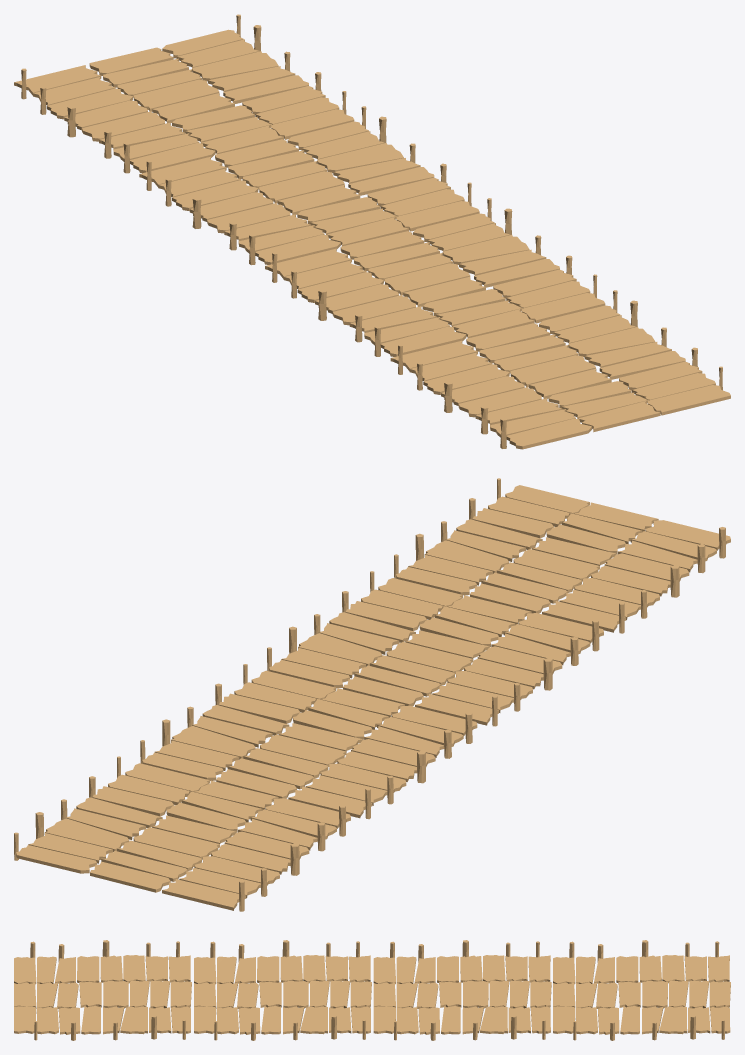
The picture shows the model from 3 angles, top to bottom: view 1: azimuth 30°, elevation 25°; view 2: azimuth 150°, elevation 25°; view 3: azimuth 270°, elevation 25°; orthographic projection. The views are drawn at different scales.
Parts seen in each view (by area): view 1: 封顶_2_79, 封顶_2_113, 封顶_2_11, 封顶_2_45, 封顶_2_22, 封顶_2_56, 封顶_2_124, 封顶_2_90, 封顶_2_68, 封顶_2_134, 封顶_2_34, 封顶_2_136 (+84 smaller); view 2: 封顶_2_11, 封顶_2_79, 封顶_2_45, 封顶_2_113, 封顶_2_22, 封顶_2_124, 封顶_2_56, 封顶_2_90, 封顶_2_68, 封顶_2_102, 封顶_2_136, 封顶_2_34 (+84 smaller); view 3: 封顶_2_79, 封顶_2_113, 封顶_2_11, 封顶_2_45, 封顶_2_56, 封顶_2_22, 封顶_2_90, 封顶_2_124, 封顶_2_66, 封顶_2_13, 封顶_2_23, 封顶_2_91 (+84 smaller).
Boxes of the visible parts, x1,y1,x2,y2 form: 封顶_2_79: [385, 263, 469, 292]; 封顶_2_113: [510, 355, 595, 384]; 封顶_2_11: [134, 79, 219, 108]; 封顶_2_45: [259, 171, 344, 200]; 封顶_2_22: [192, 51, 278, 78]; 封顶_2_56: [317, 143, 403, 170]; 封顶_2_124: [569, 327, 654, 354]; 封顶_2_90: [443, 235, 529, 262]; 封顶_2_68: [396, 201, 479, 228]; 封顶_2_134: [506, 418, 591, 446]; 封顶_2_34: [271, 109, 354, 136]; 封顶_2_136: [648, 385, 730, 412]; 封顶_2_11: [133, 827, 219, 856]; 封顶_2_79: [386, 642, 472, 671]; 封顶_2_45: [260, 734, 345, 764]; 封顶_2_113: [513, 549, 599, 578]; 封顶_2_22: [45, 818, 128, 849]; 封顶_2_124: [425, 540, 508, 570]; 封顶_2_56: [171, 726, 255, 756]; 封顶_2_90: [298, 633, 381, 663]; 封顶_2_68: [251, 670, 335, 698]; 封顶_2_102: [378, 578, 461, 605]; 封顶_2_136: [505, 485, 589, 512]; 封顶_2_34: [125, 763, 209, 790]; 封顶_2_79: [283, 980, 308, 1006]; 封顶_2_113: [103, 980, 128, 1006]; 封顶_2_11: [642, 981, 667, 1006]; 封顶_2_45: [463, 981, 488, 1006]; 封顶_2_56: [480, 1006, 507, 1031]; 封顶_2_22: [659, 1006, 687, 1031]; 封顶_2_90: [300, 1006, 327, 1031]; 封顶_2_124: [120, 1006, 147, 1031]; 封顶_2_66: [373, 957, 395, 983]; 封顶_2_13: [662, 955, 684, 981]; 封顶_2_23: [616, 956, 638, 981]; 封顶_2_91: [257, 956, 279, 981].
Bounding box in the file's own units: 376 × 48.3 × 1414.
